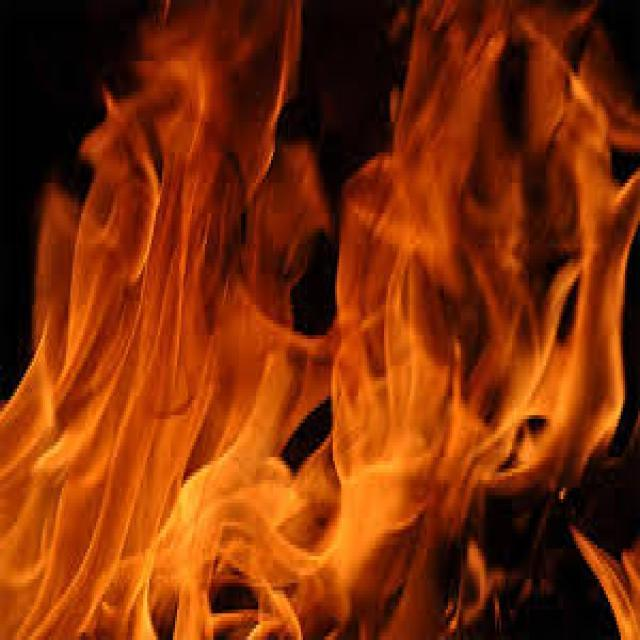Fire: (21, 30, 636, 640)
